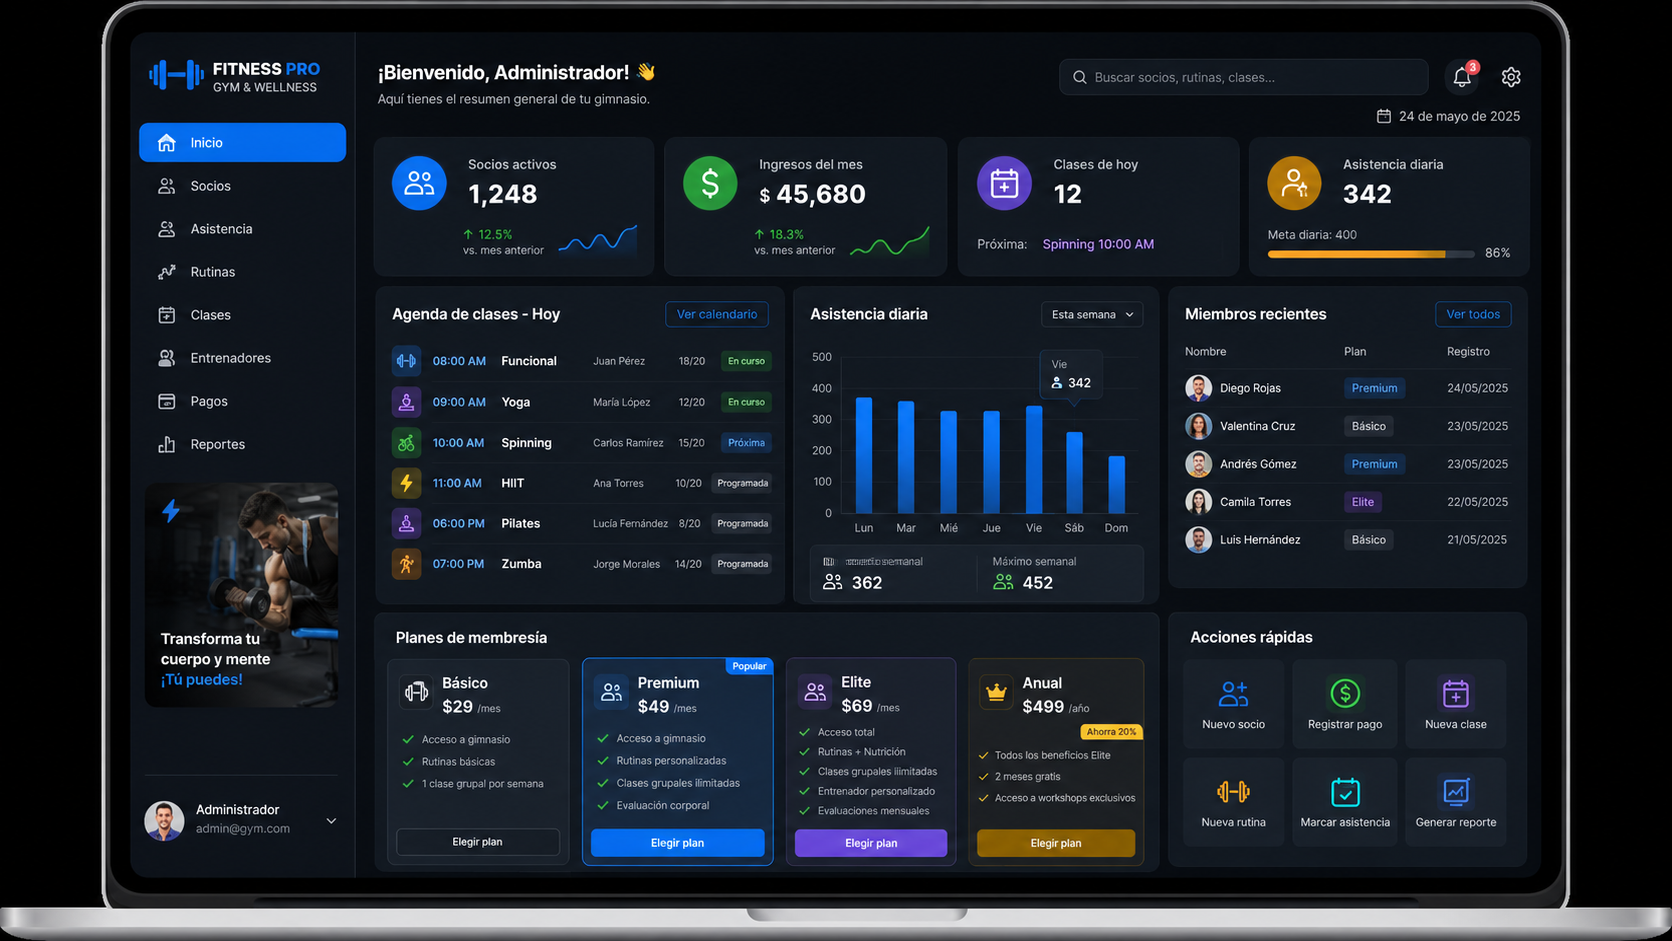

The dashboard page shown, as its layout file describes it:
{"tool":"powerbi","page":{"name":"Página 1","canvas":[1280,720],"ordinal":0},"visuals":[{"type":"shape","box":[144,96,1136,625],"z":0},{"type":"shape","box":[939.9,620.7,22.4,14.7],"z":0,"group":"g1"},{"type":"shape","box":[0,0,1280,95],"z":1000},{"type":"shape","box":[960.9,620.7,22.4,14.7],"z":1000,"group":"g1"},{"type":"textbox","box":[208,32,1072,160],"z":2000},{"type":"shape","box":[982,620.7,22.4,14.7],"z":2000,"group":"g1"},{"type":"shape","box":[0,96,144,624],"z":3000},{"type":"shape","box":[1003.1,620.7,22.4,14.7],"z":3000,"group":"g1"},{"type":"textbox","box":[40,128,128,64],"z":4000},{"type":"shape","box":[1024.2,620.7,22.4,14.7],"z":4000,"group":"g1"},{"type":"textbox","box":[40,192,128,64],"z":5000},{"type":"shape","box":[1045.3,620.7,22.4,14.7],"z":5000,"group":"g1"},{"type":"textbox","box":[40,256,128,64],"z":6000},{"type":"textbox","box":[898.2,628.7,232,56],"z":6000,"group":"g1"},{"type":"textbox","box":[40,320,128,64],"z":7000},{"type":"textbox","box":[40,384,128,64],"z":8000},{"type":"textbox","box":[40,448,128,64],"z":9000},{"type":"textbox","box":[40,512,128,64],"z":10000},{"type":"shape","box":[0,120,16,48],"z":11000},{"type":"slicer","fields":{"Values":["Fact_Siniestros_Region.Año"]},"box":[160,104,240,64],"z":12000},{"type":"slicer","fields":{"Values":["Fact_Siniestros_Region.DEPARTAMENTO"]},"box":[472,104,208,64],"z":13000},{"type":"slicer","fields":{"Values":["Fact_Siniestros_Tipo.Tipo_Siniestro"]},"box":[752,104,224,64],"z":14000},{"type":"slicer","fields":{"Values":["Fact_Victimas.Condicion"]},"box":[1056,104,208,64],"z":15000},{"type":"cardVisual","fields":{"Data":["Fact_Siniestros_Region.Total Fallecidos"]},"box":[432,176,256,96],"z":16000},{"type":"cardVisual","fields":{"Data":["Fact_Siniestros_Region.Total Siniestros"]},"box":[160,176,264,96],"z":17000},{"type":"cardVisual","fields":{"Data":["Fact_Siniestros_Region.Total Heridos"]},"box":[704,176,272,96],"z":18000},{"type":"cardVisual","fields":{"Data":["Fact_Siniestros_Region.Regiones Reportadas"]},"box":[1008,176,272,96],"z":19000},{"type":"lineChart","title":"       Evolución anual de siniestros","fields":{"Category":["Fact_Siniestros_Region.Año"],"Y":["Sum(Fact_Siniestros_Region.Total_Siniestros)"]},"box":[160,280,432,176],"z":20000},{"type":"azureMap","title":"Distribución geográfica de siniestros","fields":{"Category":["Fact_Siniestros_Region.Ubicacion_Mapa"],"Size":["Fact_Siniestros_Region.Total Siniestros"]},"box":[608,280,288,208],"z":21000},{"type":"clusteredBarChart","title":"Top departamentos con más siniestros","fields":{"Category":["Fact_Siniestros_Region.Departamento"],"Y":["Fact_Siniestros_Region.Total Siniestros"]},"box":[912,280,352,208],"z":22000},{"type":"donutChart","title":"Tipo de siniestro","fields":{"Category":["Fact_Siniestros_Tipo.Tipo_Siniestro"],"Y":["Sum(Fact_Siniestros_Tipo.Cantidad)"]},"box":[160,464,304,224],"z":23000},{"type":"pivotTable","title":"Comparativo mensual de siniestros 2023-2025","fields":{"Rows":["Fact_Siniestros_Mensual.Año"],"Values":["Sum(Fact_Siniestros_Mensual.Siniestros)"],"Columns":["Dim_Meses.Mes_Corto"]},"box":[786.2,492.7,480,176],"z":24000},{"type":"columnChart","title":"Fallecidos y heridos por año","fields":{"Category":["Fact_Victimas.Año"],"Series":["Fact_Victimas.Condicion"],"Y":["Sum(Fact_Victimas.Cantidad)"]},"box":[472,496,304,192],"z":25000},{"type":"group","id":"g1","title":"Grupo 1","box":[898.2,620.7,232,64],"z":26000},{"type":"shape","box":[176,16,16,64],"z":27000},{"type":"image","box":[192,280,32,32],"z":28000},{"type":"image","box":[320,112,96,48],"z":29000},{"type":"image","box":[832,280,48,48],"z":30000},{"type":"image","box":[624,112,64,48],"z":31000},{"type":"image","box":[800,8,480,88],"z":32000},{"type":"image","box":[912,104,53,61],"z":33000},{"type":"image","box":[1208,112,48,56],"z":34000},{"type":"image","box":[728,480,48,64],"z":35000},{"type":"image","box":[912,272,32,48],"z":36000},{"type":"image","box":[8,152,32,112],"z":37000},{"type":"image","box":[0,416,40,96],"z":38000},{"type":"image","box":[0,496,40,64],"z":39000},{"type":"image","box":[0,248,45,45],"z":40000},{"type":"image","box":[8,128,32,32],"z":41000},{"type":"image","box":[0,352,42,85],"z":42000},{"type":"image","box":[8,304,40,56],"z":43000},{"type":"image","box":[272,456,72,40],"z":44000},{"type":"textbox","box":[208,8,1071,144],"z":45000},{"type":"image","box":[0,16,192,64],"z":46000}]}

Visuals, with their boxes in screenshot pixels (x1, y1, x2, y2), scaled from the page's 1280x720 canvas onto the 1672x941 screenshot:
shape: 188, 125, 1671, 940
shape: 1228, 811, 1257, 830
shape: 0, 0, 1671, 124
shape: 1255, 811, 1284, 830
textbox: 272, 42, 1671, 251
shape: 1283, 811, 1312, 830
shape: 0, 125, 188, 940
shape: 1310, 811, 1340, 830
textbox: 52, 167, 219, 251
shape: 1338, 811, 1367, 830
textbox: 52, 251, 219, 335
shape: 1365, 811, 1395, 830
textbox: 52, 335, 219, 418
textbox: 1173, 822, 1476, 895
textbox: 52, 418, 219, 502
textbox: 52, 502, 219, 586
textbox: 52, 586, 219, 669
textbox: 52, 669, 219, 753
shape: 0, 157, 21, 220
slicer - Fact_Siniestros_Region.Año: 209, 136, 522, 220
slicer - Fact_Siniestros_Region.DEPARTAMENTO: 617, 136, 888, 220
slicer - Fact_Siniestros_Tipo.Tipo_Siniestro: 982, 136, 1275, 220
slicer - Fact_Victimas.Condicion: 1379, 136, 1651, 220
cardVisual - Fact_Siniestros_Region.Total Fallecidos: 564, 230, 899, 355
cardVisual - Fact_Siniestros_Region.Total Siniestros: 209, 230, 554, 355
cardVisual - Fact_Siniestros_Region.Total Heridos: 920, 230, 1275, 355
cardVisual - Fact_Siniestros_Region.Regiones Reportadas: 1317, 230, 1671, 355
"       Evolución anual de siniestros" lineChart: 209, 366, 773, 596
"Distribución geográfica de siniestros" azureMap: 794, 366, 1170, 638
"Top departamentos con más siniestros" clusteredBarChart: 1191, 366, 1651, 638
"Tipo de siniestro" donutChart: 209, 606, 606, 899
"Comparativo mensual de siniestros 2023-2025" pivotTable: 1027, 644, 1654, 874
"Fallecidos y heridos por año" columnChart: 617, 648, 1014, 899
"Grupo 1" group: 1173, 811, 1476, 895
shape: 230, 21, 251, 105
image: 251, 366, 293, 408
image: 418, 146, 543, 209
image: 1087, 366, 1150, 429
image: 815, 146, 899, 209
image: 1045, 10, 1671, 125
image: 1191, 136, 1261, 216
image: 1578, 146, 1641, 220
image: 951, 627, 1014, 711
image: 1191, 355, 1233, 418
image: 10, 199, 52, 345
image: 0, 544, 52, 669
image: 0, 648, 52, 732
image: 0, 324, 59, 383
image: 10, 167, 52, 209
image: 0, 460, 55, 571
image: 10, 397, 63, 470
image: 355, 596, 449, 648
textbox: 272, 10, 1671, 199
image: 0, 21, 251, 105
